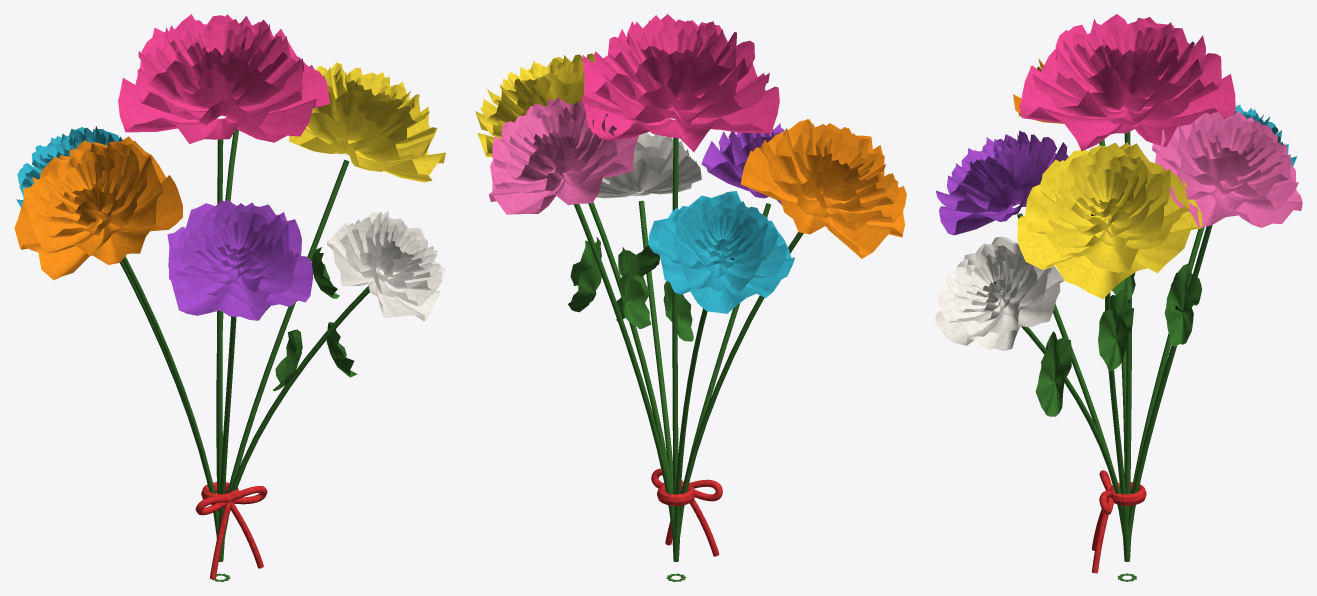
File: w6_tissue_flower_cluster.glb
3 views of the same model, side by side, from view 1: azimuth 30°, elevation 25°; view 2: azimuth 150°, elevation 25°; view 3: azimuth 270°, elevation 25° (orthographic).
Parts seen in each view (by area): view 1: w6_tissue_flower_cluster; view 2: w6_tissue_flower_cluster; view 3: w6_tissue_flower_cluster.
Boxes of the visible parts, x1=… form: w6_tissue_flower_cluster: x1=14, y1=14, x2=446, y2=581; w6_tissue_flower_cluster: x1=475, y1=14, x2=906, y2=581; w6_tissue_flower_cluster: x1=935, y1=14, x2=1302, y2=581.
Bounding box in the file's own units: 0.5044 × 0.651 × 0.3977.
Materials: 1 (1 with a texture image).
